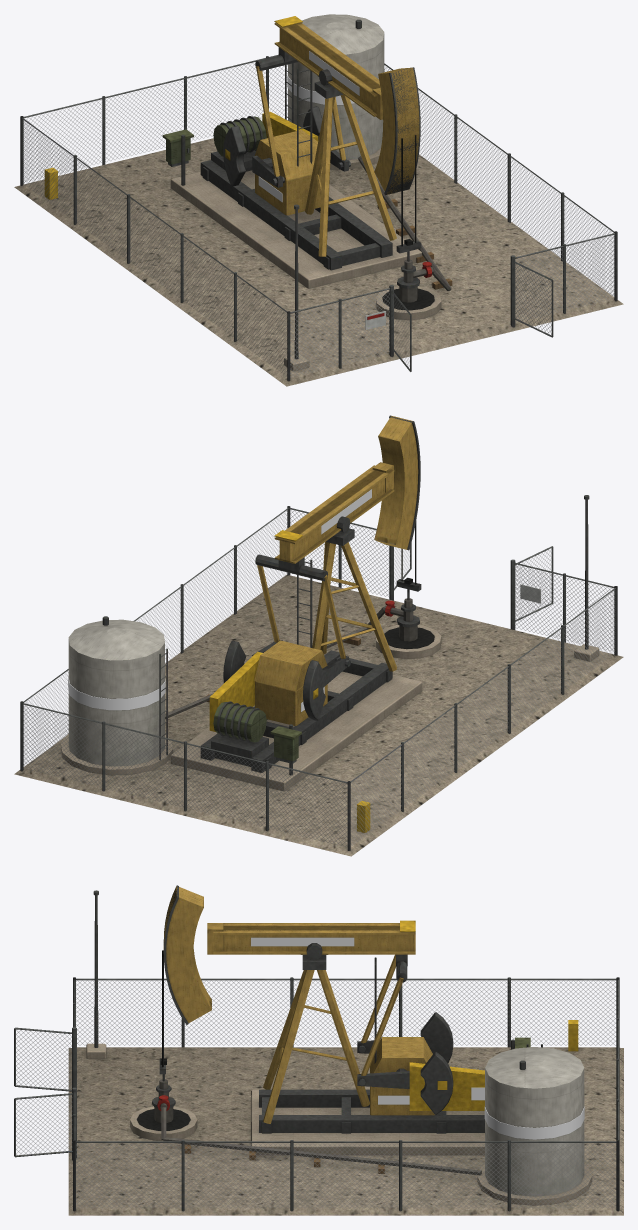
Rendered from oil_derrick.glb.
The picture shows the model from 3 angles, top to bottom: view 1: azimuth 30°, elevation 25°; view 2: azimuth 150°, elevation 25°; view 3: azimuth 270°, elevation 25°; orthographic projection.
Visible parts, largest first — view 1: Base, HorseHead, WalkingBeam, Crank, Pitman; view 2: Base, HorseHead, WalkingBeam, Crank, Pitman; view 3: Base, WalkingBeam, HorseHead, Crank, Pitman.
Boxes of the visible parts, <box> form: Base: <box>14,14,623,386</box>; HorseHead: <box>372,67,421,261</box>; WalkingBeam: <box>274,16,380,116</box>; Crank: <box>223,106,350,187</box>; Pitman: <box>255,47,345,176</box>; Base: <box>14,495,623,856</box>; HorseHead: <box>372,415,421,600</box>; WalkingBeam: <box>274,465,394,563</box>; Crank: <box>223,640,350,720</box>; Pitman: <box>255,554,345,658</box>; Base: <box>14,890,623,1215</box>; WalkingBeam: <box>213,920,415,954</box>; HorseHead: <box>159,885,223,1081</box>; Crank: <box>357,1012,453,1114</box>; Pitman: <box>361,954,407,1075</box>.
Size of the model in its own units: 10 by 6.7 by 15.38.
Materials: 3 (2 with a texture image).
